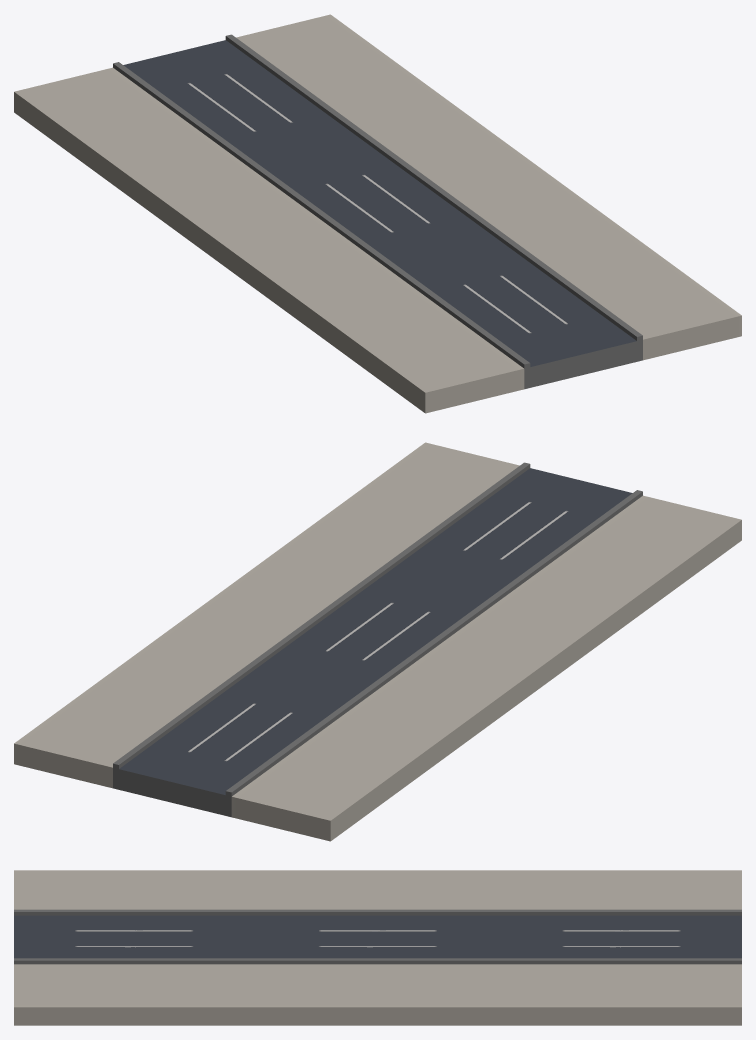
The model's file is RoadNBlock.fbx.
3 renders of one model, top to bottom at view 1: azimuth 30°, elevation 25°; view 2: azimuth 150°, elevation 25°; view 3: azimuth 270°, elevation 25°, orthographic. The views are drawn at different scales.
Parts seen in each view (by area): view 1: Cube; view 2: Cube; view 3: Cube.
Part boxes in pixels (box(x1,y1,x2,y2)): Cube: box(14, 14, 741, 413); Cube: box(14, 442, 741, 841); Cube: box(14, 870, 741, 1025).
Bounding box in the file's own units: 16 × 1.2 × 36.
